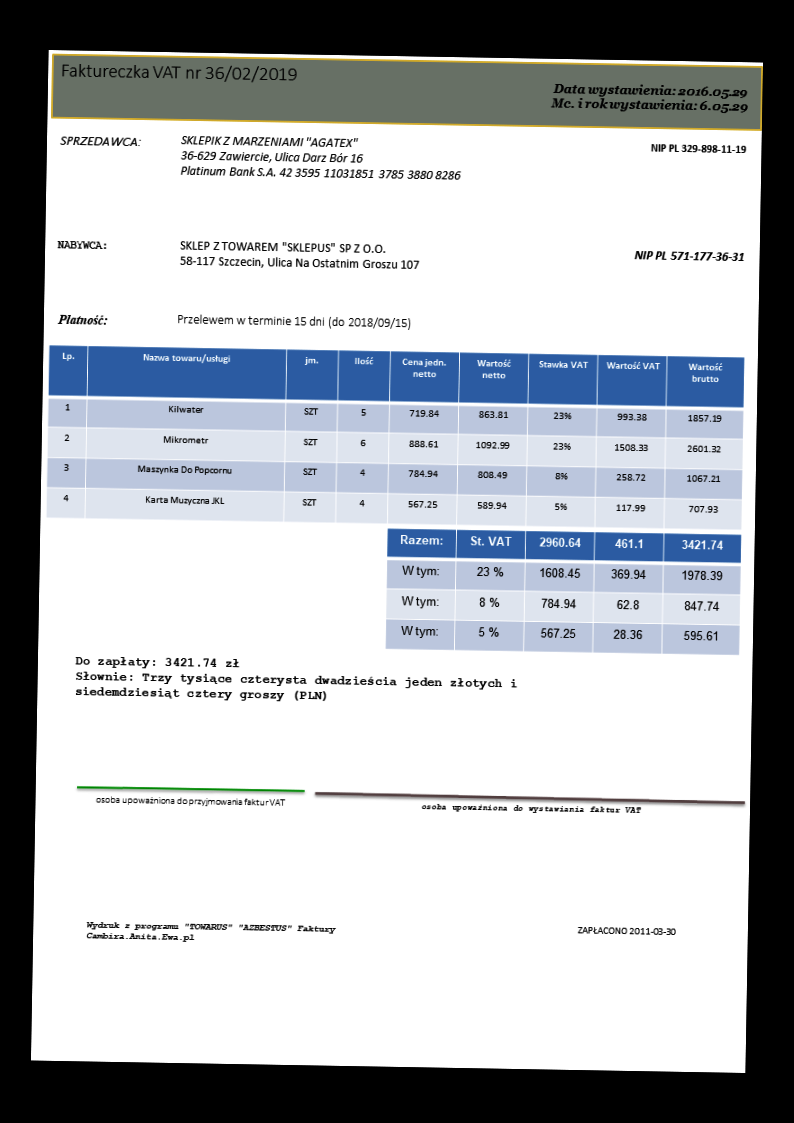Table: (44, 344, 744, 532), (385, 528, 741, 657)
TextBox: (71, 653, 522, 708), (176, 131, 464, 188), (176, 238, 421, 273), (547, 79, 751, 118), (82, 919, 340, 948), (57, 58, 299, 85), (174, 312, 413, 332), (419, 800, 643, 816), (92, 793, 287, 809), (632, 247, 745, 265), (647, 139, 746, 158), (56, 131, 143, 152), (575, 922, 679, 939), (54, 236, 108, 254), (55, 311, 109, 327)
